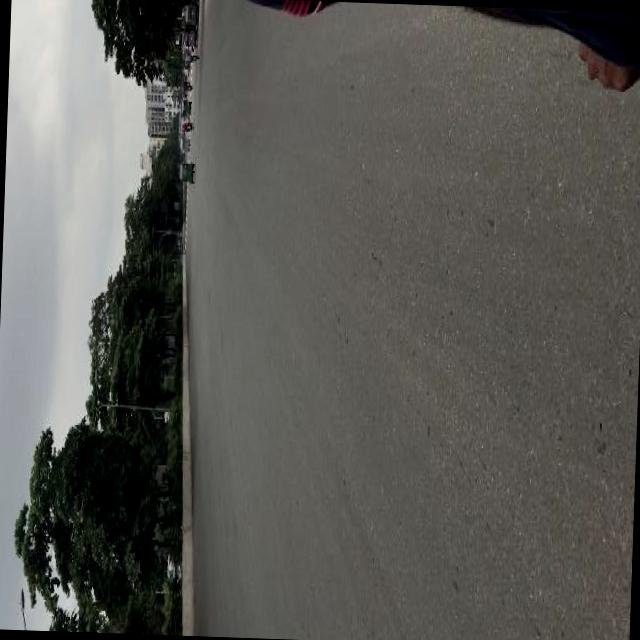motorcycle: (178, 157, 194, 181), (182, 22, 198, 45), (183, 2, 197, 22), (179, 136, 189, 150), (180, 98, 190, 112), (182, 80, 192, 90), (182, 122, 192, 128)
